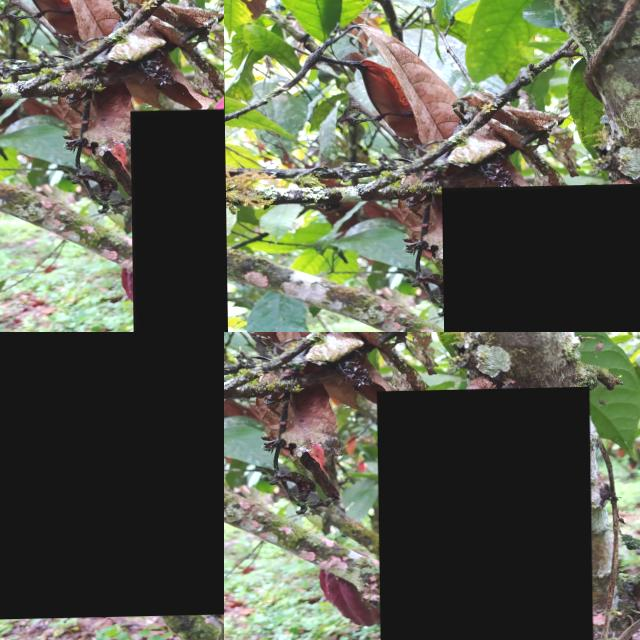Fitoftora: (129, 108, 224, 332)
Monilia: (0, 332, 224, 621)
Sana: (376, 389, 591, 640), (441, 183, 640, 332)
